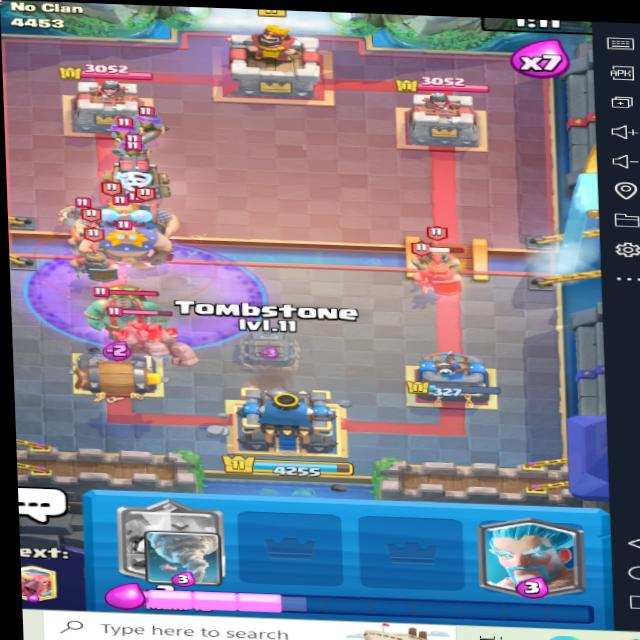electro-barbarians: (54, 191, 104, 228)
electro-giant: (74, 206, 186, 277)
goblin-giant: (84, 290, 182, 350)
golem: (111, 313, 206, 373)
musketeer: (132, 106, 171, 148), (108, 112, 150, 148), (116, 133, 154, 162)
royal-giant: (80, 191, 189, 238)
royal-recruits: (79, 241, 124, 295), (417, 243, 462, 296), (412, 231, 465, 271)
sparky: (97, 140, 174, 203)
